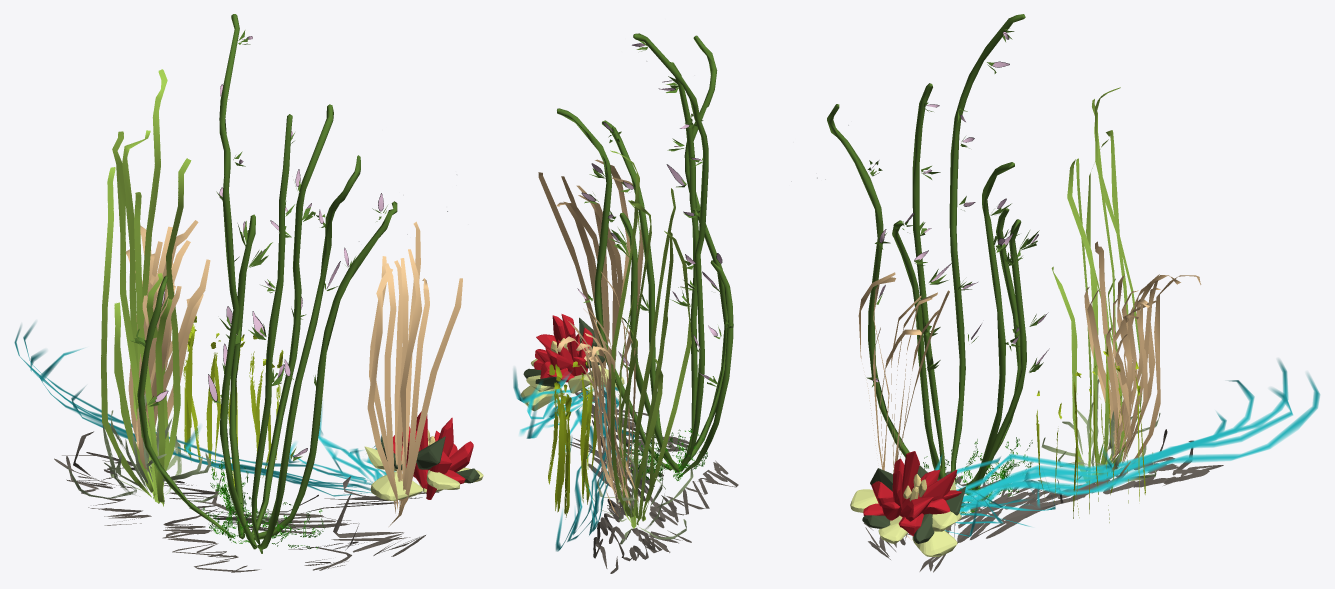
The model's file is seaweed.glb.
3 views of the same model, side by side, from view 1: azimuth 30°, elevation 25°; view 2: azimuth 150°, elevation 25°; view 3: azimuth 270°, elevation 25° (orthographic). The views are drawn at different scales.
Parts seen in each view (by area): view 1: brush_Icing_g0_b0_0, brush_DoubleTaperedFlat_g0_b0_9, brush_DuctTape_g0_b0_7, brush_WetPaint_g0_b0_10, brush_UnlitHull_g0_b0_13, brush_Highlighter_g0_b0_11, brush_OilPaint_g0_b0_12, brush_VelvetInk_g0_b0_8, brush_Petal_g0_b0_3, brush_CoarseBristles_g0_b0_6, brush_CelVinyl_g0_b0_4; view 2: brush_Icing_g0_b0_0, brush_DoubleTaperedFlat_g0_b0_9, brush_DuctTape_g0_b0_7, brush_WetPaint_g0_b0_10, brush_UnlitHull_g0_b0_13, brush_Highlighter_g0_b0_11, brush_OilPaint_g0_b0_12, brush_Petal_g0_b0_3, brush_VelvetInk_g0_b0_8, brush_CelVinyl_g0_b0_4, brush_CoarseBristles_g0_b0_6; view 3: brush_Icing_g0_b0_0, brush_DoubleTaperedFlat_g0_b0_9, brush_Highlighter_g0_b0_11, brush_UnlitHull_g0_b0_13, brush_DuctTape_g0_b0_7, brush_WetPaint_g0_b0_10, brush_OilPaint_g0_b0_12, brush_Petal_g0_b0_3, brush_VelvetInk_g0_b0_8, brush_CoarseBristles_g0_b0_6, brush_CelVinyl_g0_b0_4.
Part boxes in pixels (x1,y1,x2,y2): brush_Icing_g0_b0_0: (137, 14, 397, 553); brush_DoubleTaperedFlat_g0_b0_9: (126, 220, 462, 526); brush_DuctTape_g0_b0_7: (101, 69, 191, 506); brush_WetPaint_g0_b0_10: (54, 431, 438, 572); brush_UnlitHull_g0_b0_13: (364, 411, 483, 501); brush_Highlighter_g0_b0_11: (14, 322, 395, 496); brush_OilPaint_g0_b0_12: (183, 316, 283, 487); brush_VelvetInk_g0_b0_8: (67, 380, 218, 501); brush_Petal_g0_b0_3: (130, 30, 387, 460); brush_CoarseBristles_g0_b0_6: (202, 459, 324, 548); brush_CelVinyl_g0_b0_4: (155, 36, 383, 457); brush_Icing_g0_b0_0: (557, 33, 733, 478); brush_DoubleTaperedFlat_g0_b0_9: (538, 159, 643, 516); brush_DuctTape_g0_b0_7: (610, 150, 691, 528); brush_WetPaint_g0_b0_10: (570, 389, 738, 573); brush_UnlitHull_g0_b0_13: (520, 314, 624, 411); brush_Highlighter_g0_b0_11: (513, 368, 634, 551); brush_OilPaint_g0_b0_12: (548, 361, 597, 517); brush_Petal_g0_b0_3: (583, 40, 733, 386); brush_VelvetInk_g0_b0_8: (589, 427, 693, 544); brush_CelVinyl_g0_b0_4: (577, 43, 722, 379); brush_CoarseBristles_g0_b0_6: (625, 428, 707, 480); brush_Icing_g0_b0_0: (827, 14, 1026, 494); brush_DoubleTaperedFlat_g0_b0_9: (858, 241, 1201, 540); brush_Highlighter_g0_b0_11: (935, 359, 1319, 536); brush_UnlitHull_g0_b0_13: (850, 451, 965, 556); brush_DuctTape_g0_b0_7: (1051, 87, 1142, 483); brush_WetPaint_g0_b0_10: (864, 429, 1223, 572); brush_OilPaint_g0_b0_12: (1036, 346, 1145, 522); brush_Petal_g0_b0_3: (866, 28, 1045, 386); brush_VelvetInk_g0_b0_8: (1038, 378, 1160, 485); brush_CoarseBristles_g0_b0_6: (923, 437, 1033, 516); brush_CelVinyl_g0_b0_4: (871, 31, 1049, 382).
Size of the model in its own units: 0.5379 by 0.9162 by 0.9101.
Materials: 10 (8 with a texture image).
